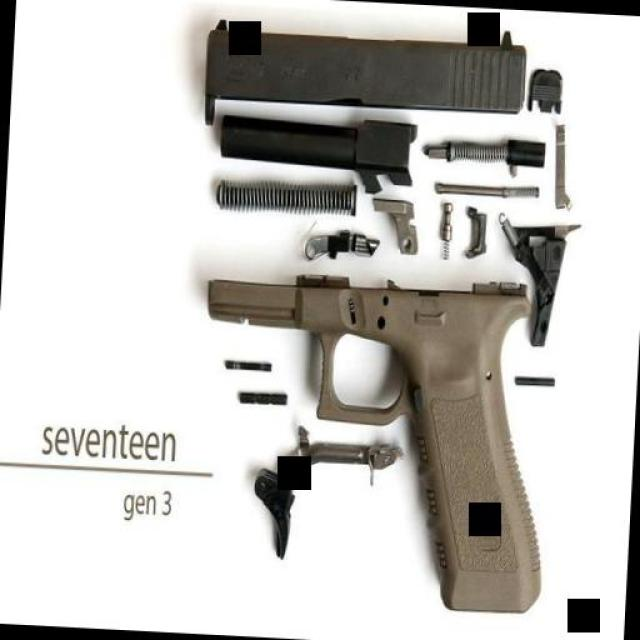gun: (160, 10, 596, 640)
